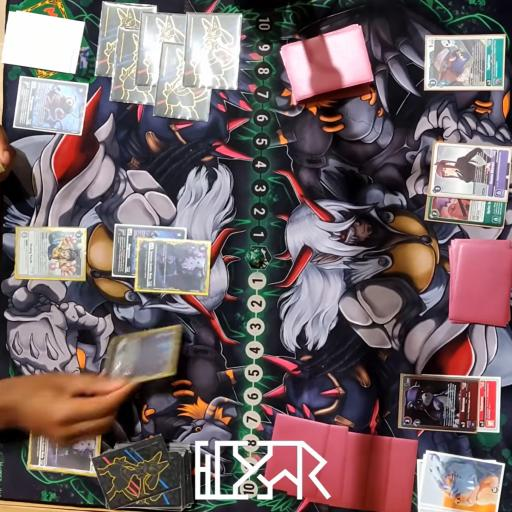card: (103, 325, 182, 389), (422, 33, 506, 90), (132, 241, 220, 293), (12, 76, 88, 136), (425, 146, 509, 200), (396, 373, 479, 426), (11, 228, 88, 280), (111, 224, 188, 276), (25, 423, 106, 472), (421, 199, 505, 228), (475, 375, 502, 434)
